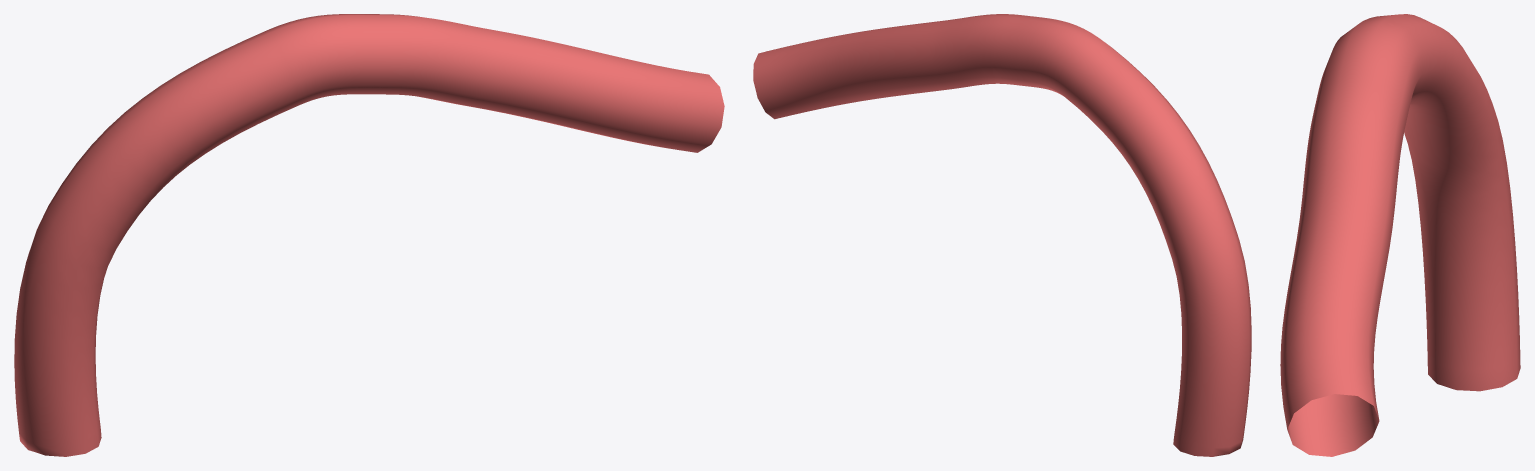
The model's file is Left_subclavian_artery.glb.
The picture shows the model from 3 angles, left to right: view 1: azimuth 30°, elevation 25°; view 2: azimuth 150°, elevation 25°; view 3: azimuth 270°, elevation 25°; orthographic projection. The views are drawn at different scales.
Parts seen in each view (by area): view 1: Left_subclavian_artery_BezierCurve.171; view 2: Left_subclavian_artery_BezierCurve.171; view 3: Left_subclavian_artery_BezierCurve.171.
Part boxes in pixels (x1,y1,x2,y2): Left_subclavian_artery_BezierCurve.171: [14, 14, 724, 456]; Left_subclavian_artery_BezierCurve.171: [753, 14, 1251, 456]; Left_subclavian_artery_BezierCurve.171: [1280, 14, 1520, 456].
Bounding box in the file's own units: 0.0622 × 0.0378 × 0.018.
